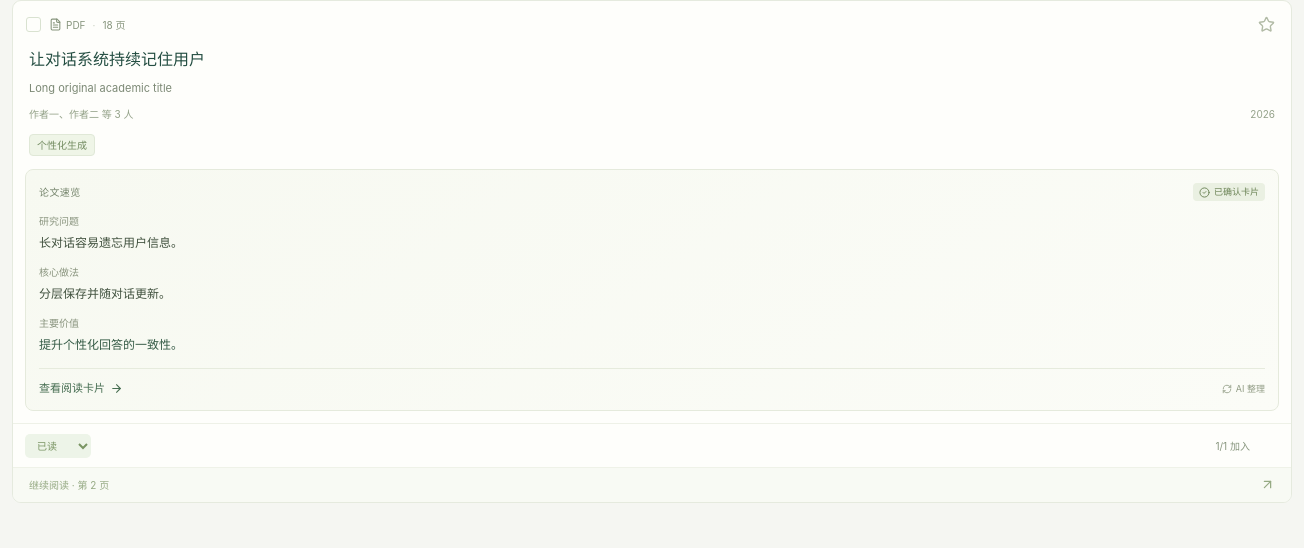
已有速览重新整理时可以取消并继续查看原内容
Click the button with aria-label "重新整理简明速览". click: {"x": 1243, "y": 389}
box: [1222,380,1265,398]
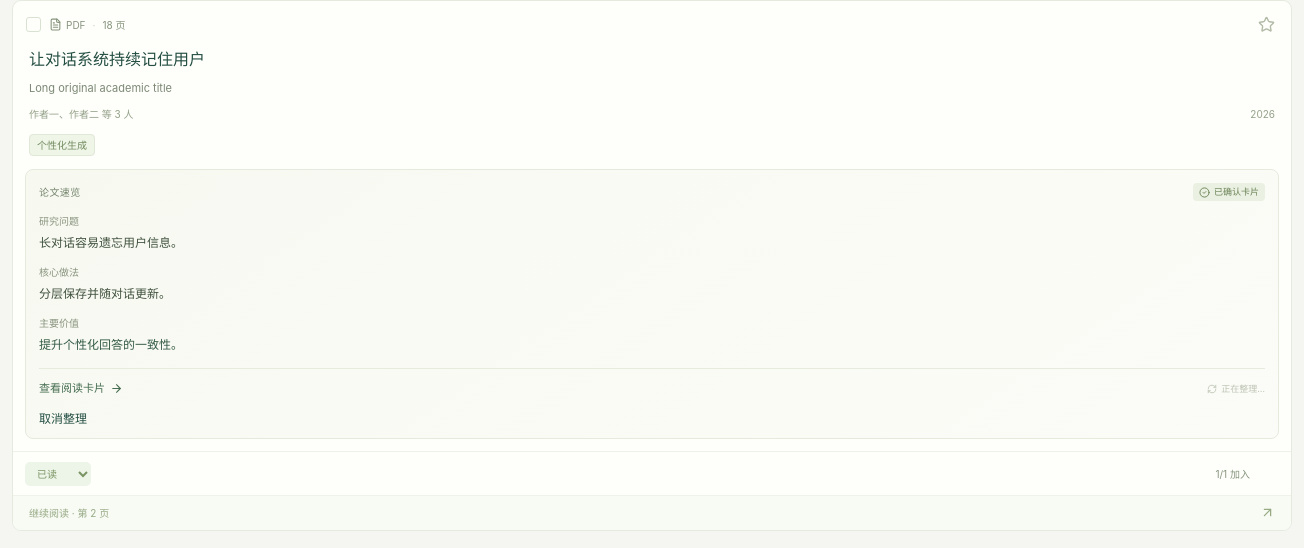
Click the button "取消整理". click: {"x": 63, "y": 418}
box: [39,409,87,428]
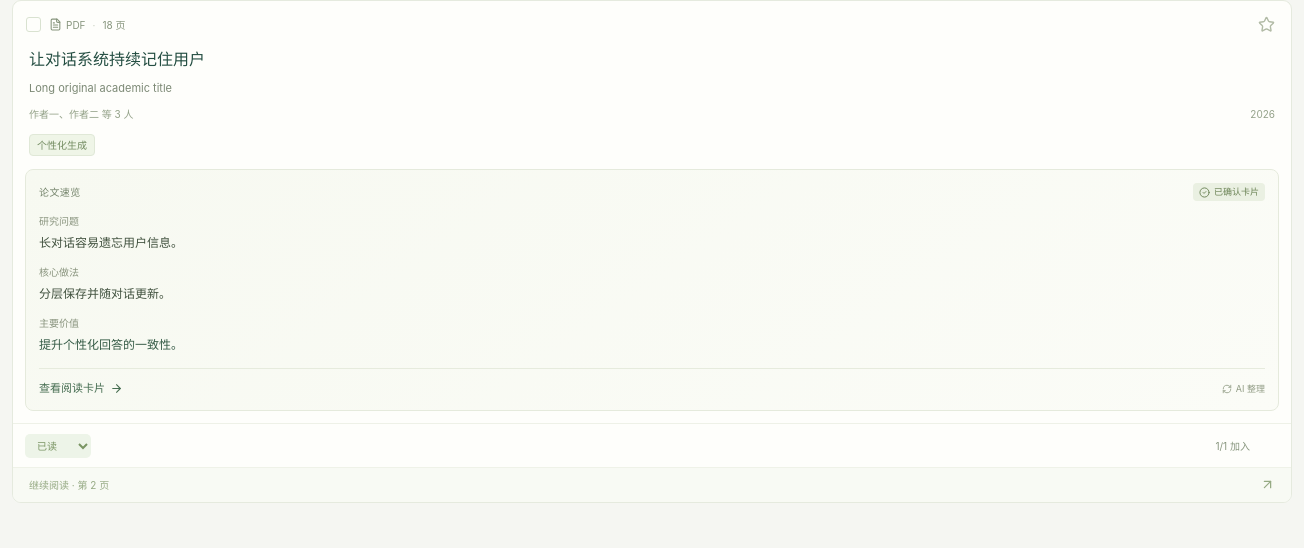
Expected: the heading "让对话系统持续记住用户" is shown, [29,49,205,69]
Now the button "取消整理" is gone
